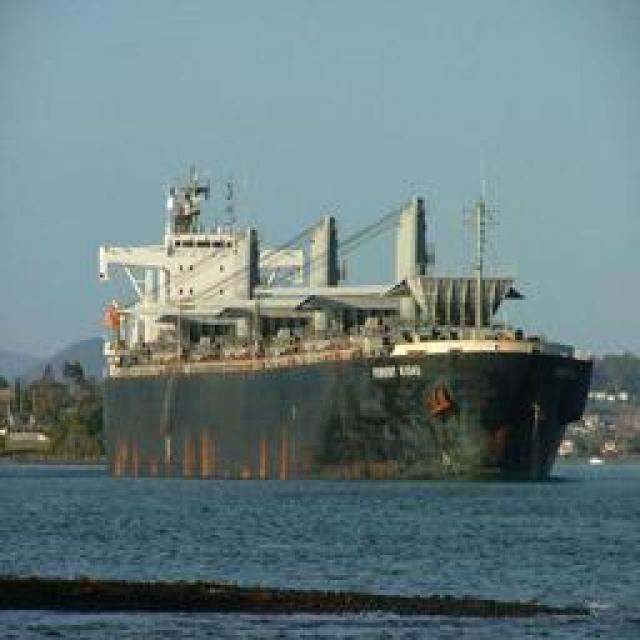CIV_Ship: (66, 158, 596, 482)
